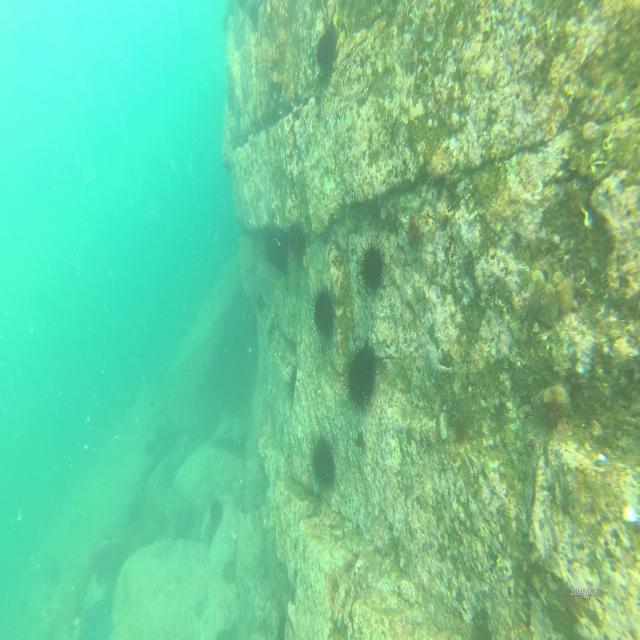echinus: (343, 340, 380, 411), (308, 280, 340, 341), (311, 432, 339, 500), (356, 236, 384, 297), (318, 28, 338, 72), (286, 218, 308, 257), (264, 230, 286, 267), (287, 243, 301, 294)
